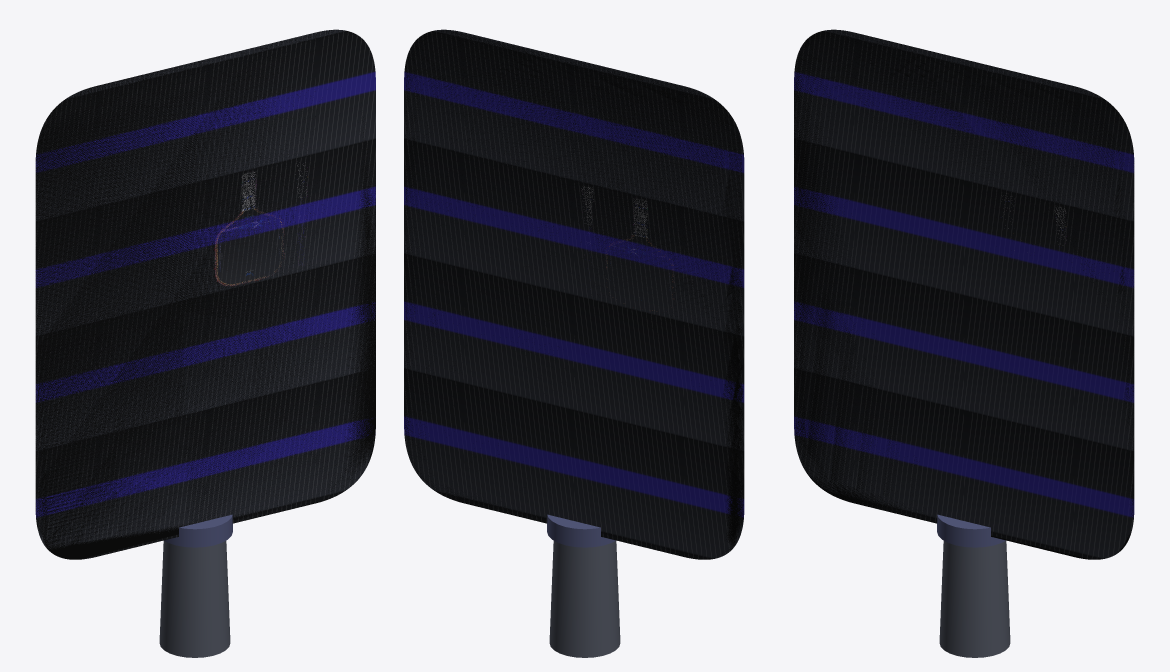
File: paddle-3.glb
The picture shows the model from 3 angles, left to right: view 1: azimuth 30°, elevation 25°; view 2: azimuth 150°, elevation 25°; view 3: azimuth 330°, elevation 25°; orthographic projection.
Visible parts, largest first — view 1: Edge, Front, Handle, Grip; view 2: Edge, Back, Handle, Grip; view 3: Edge, Front, Handle, Grip.
Part boxes in pixels (x1=…): Edge: x1=35, y1=29, x2=375, y2=559; Front: x1=35, y1=30, x2=375, y2=559; Handle: x1=159, y1=541, x2=230, y2=657; Grip: x1=164, y1=514, x2=232, y2=547; Edge: x1=404, y1=29, x2=744, y2=559; Back: x1=405, y1=30, x2=743, y2=559; Handle: x1=549, y1=541, x2=620, y2=657; Grip: x1=547, y1=514, x2=615, y2=547; Edge: x1=794, y1=29, x2=1134, y2=559; Front: x1=794, y1=29, x2=1134, y2=559; Handle: x1=939, y1=541, x2=1010, y2=657; Grip: x1=937, y1=514, x2=1005, y2=547.
Size of the model in its own units: 3.1 by 5.15 by 0.6.
5 materials, 3 textured.
